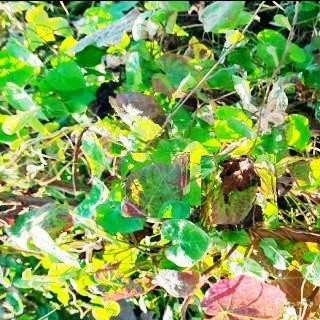leaf spot: (201, 154, 278, 230), (121, 149, 190, 217), (106, 79, 172, 138)
